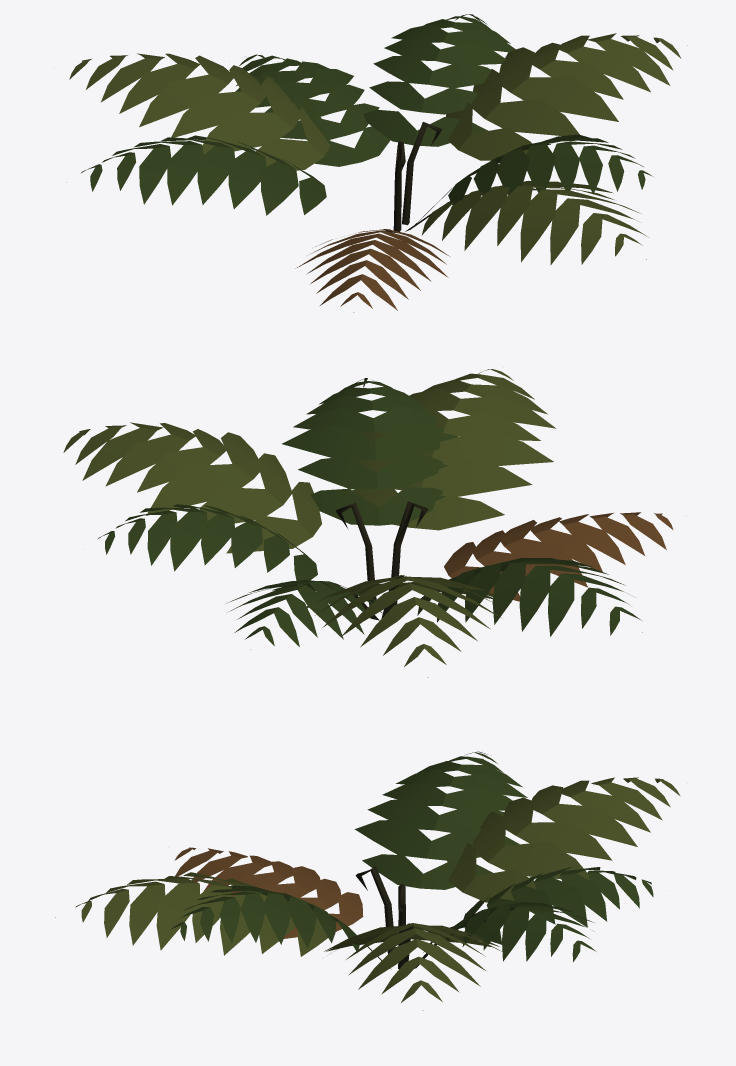
File: fern.glb
3 renders of one model, top to bottom at view 1: azimuth 30°, elevation 25°; view 2: azimuth 150°, elevation 25°; view 3: azimuth 270°, elevation 25°, orthographic. The views are drawn at different scales.
Visible parts, largest first — view 1: Fern_mesh; view 2: Fern_mesh; view 3: Fern_mesh.
Part boxes in pixels (x1=…): Fern_mesh: x1=66, y1=14, x2=687, y2=312; Fern_mesh: x1=63, y1=369, x2=673, y2=677; Fern_mesh: x1=55, y1=751, x2=680, y2=1010.
Bounding box in the file's own units: 1.38 × 0.2555 × 1.34.
